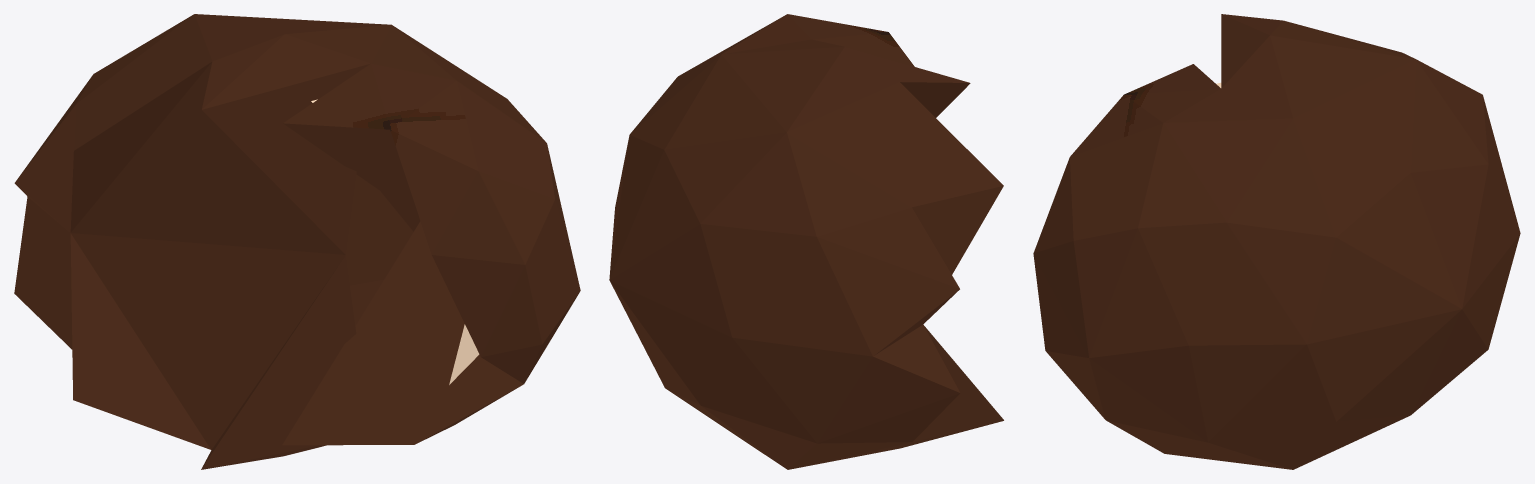
The model's file is hair45.glb.
The picture shows the model from 3 angles, left to right: view 1: azimuth 30°, elevation 25°; view 2: azimuth 150°, elevation 25°; view 3: azimuth 270°, elevation 25°; orthographic projection. The views are drawn at different scales.
Visible parts, largest first — view 1: tomodachi-2026-03-10-20-40-34-139, tomodachi-2026-03-10-20-40-34-139.008; view 2: tomodachi-2026-03-10-20-40-34-139; view 3: tomodachi-2026-03-10-20-40-34-139.
Boxes of the visible parts, x1=… form: tomodachi-2026-03-10-20-40-34-139: x1=14, y1=14, x2=580, y2=469; tomodachi-2026-03-10-20-40-34-139.008: x1=311, y1=99, x2=479, y2=384; tomodachi-2026-03-10-20-40-34-139: x1=609, y1=14, x2=1003, y2=469; tomodachi-2026-03-10-20-40-34-139: x1=1033, y1=14, x2=1520, y2=469.
Bounding box in the file's own units: 1.34 × 1.27 × 1.38.
2 materials, 2 textured.
